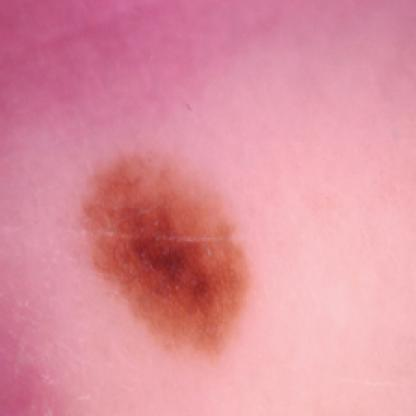benign: (82, 158, 269, 349)
